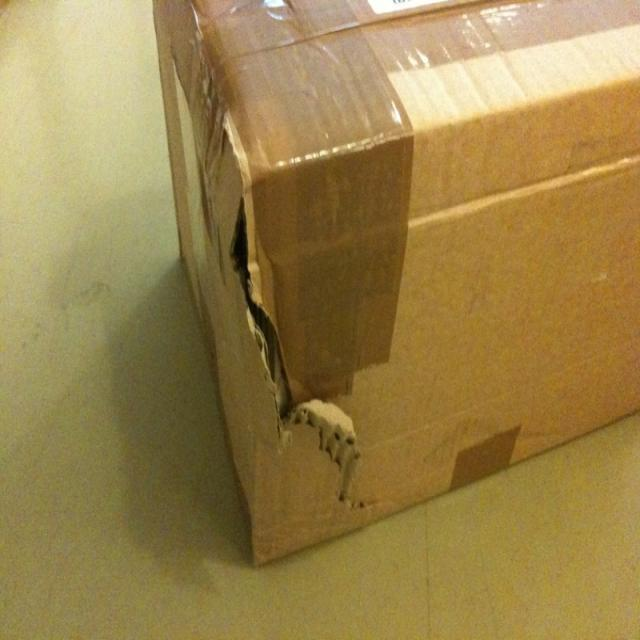box: (315, 118, 551, 471), (186, 70, 383, 345), (198, 332, 436, 555), (50, 288, 254, 467), (84, 217, 251, 340)
